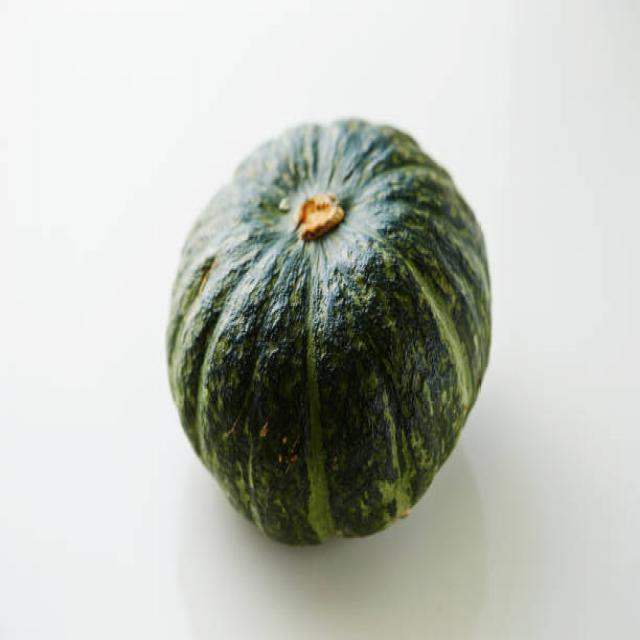Pumpkin: (162, 110, 499, 550)
